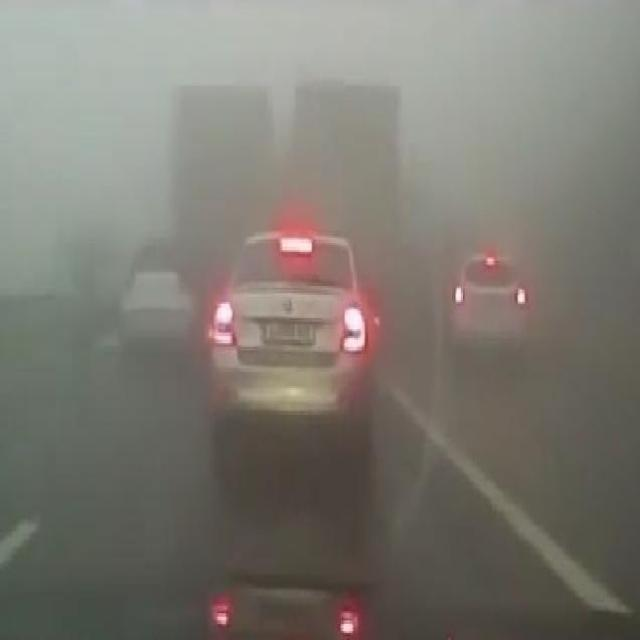Car: (208, 223, 379, 452), (446, 249, 534, 361), (116, 269, 200, 356)
